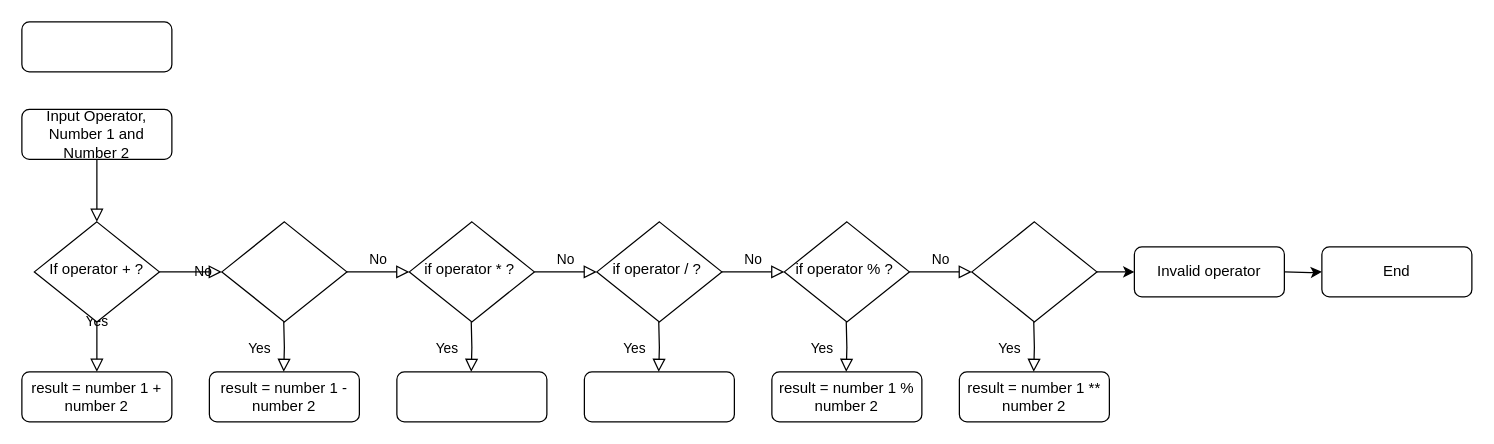
Image size: 1494x444. Some labels were removed from this diagram. Here are the shapes that lost their labels. From the top down, the centre of each, then its label:
At [96,46]: "Print Supported opeartor + - * / % **".
At [284,271]: "if operator - ?".
At [1034,271]: "if operator ** ?".
At [471,396]: "result = number 1 * number 2".
At [658,396]: "result = number 1 / number 2".
